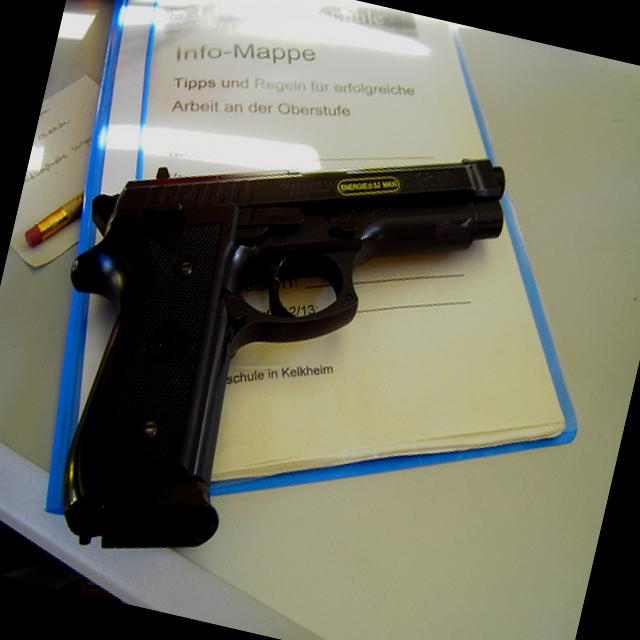handgun: (8, 65, 518, 620)
